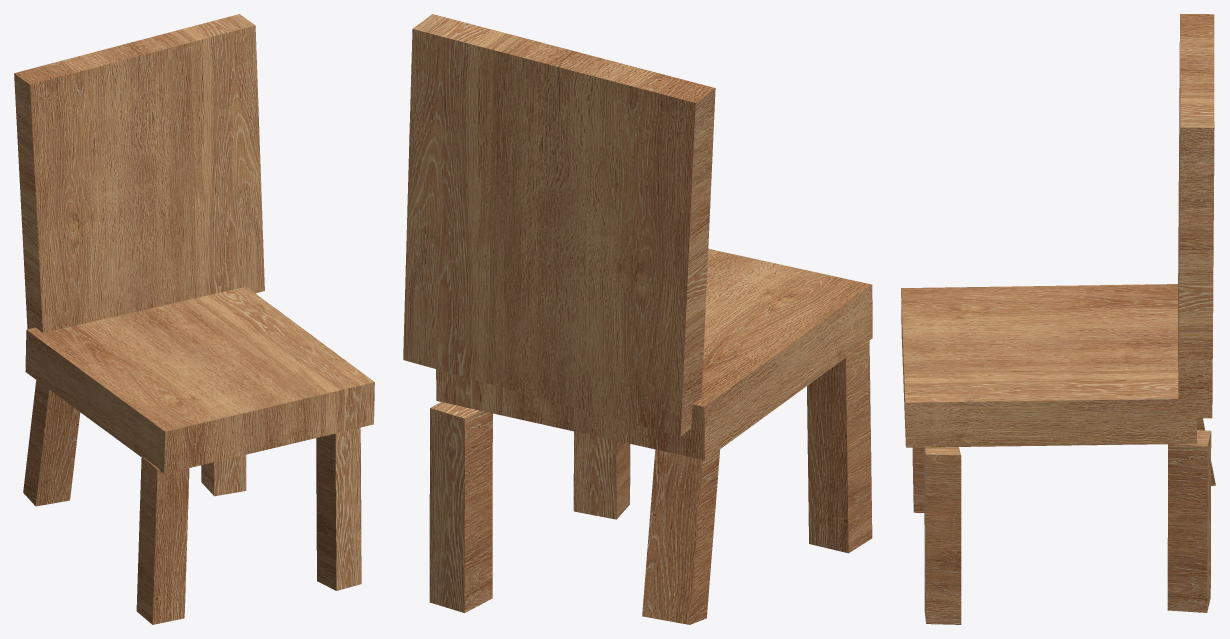
Rendered from 38527_ours.glb.
3 views of the same model, side by side, from view 1: azimuth 30°, elevation 25°; view 2: azimuth 150°, elevation 25°; view 3: azimuth 270°, elevation 25° (orthographic). The views are drawn at different scales.
Visible parts, largest first — view 1: ParentEmpty; view 2: ParentEmpty; view 3: ParentEmpty.
Boxes of the visible parts, x1,y1,x2,y2 form: ParentEmpty: (14, 14, 374, 624); ParentEmpty: (403, 14, 872, 624); ParentEmpty: (901, 14, 1215, 624).
Bounding box in the file's own units: 0.525 × 1 × 0.5674.
1 material, 1 textured.
